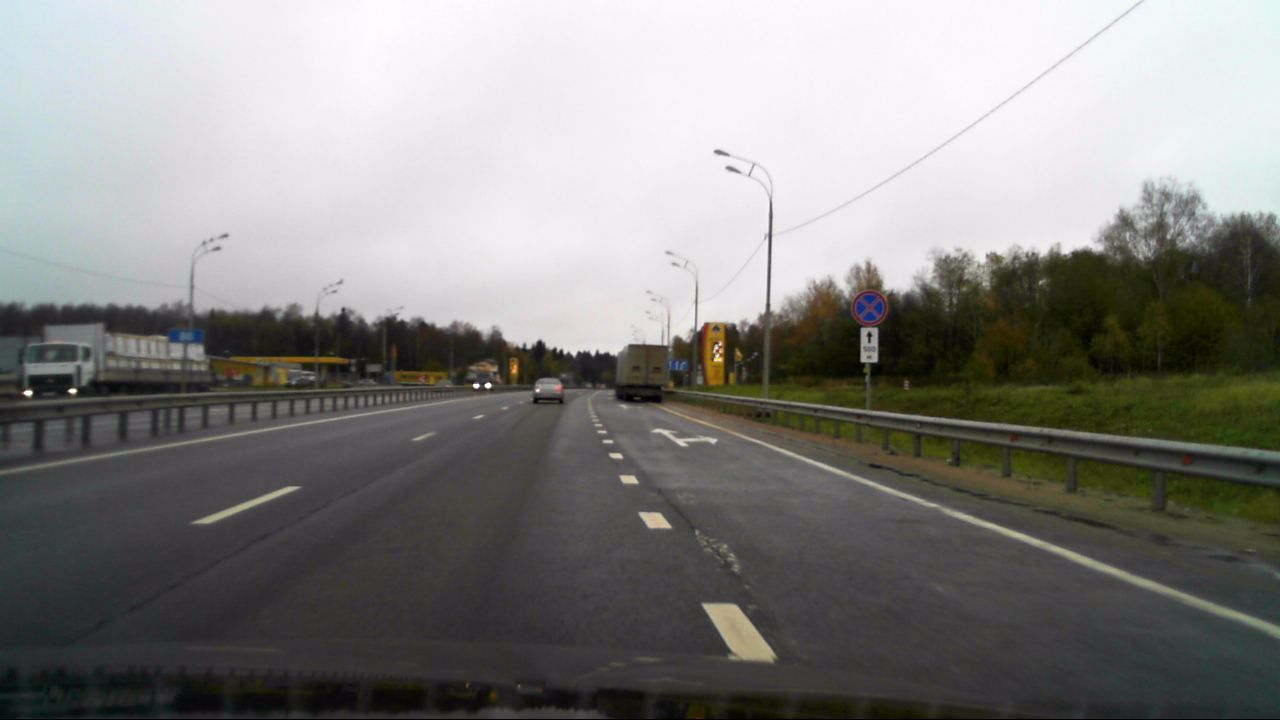No Parking: (852, 290, 889, 326)
